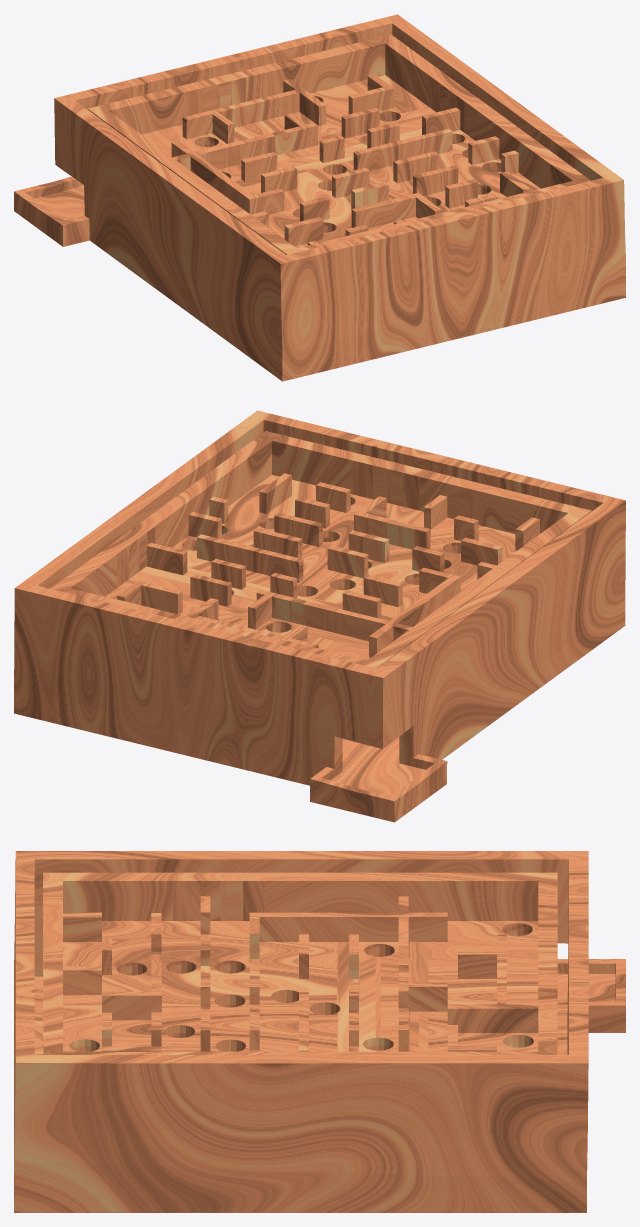
Rendered from Maze.fbx.
3 views of the same model, one above another, from view 1: azimuth 30°, elevation 25°; view 2: azimuth 150°, elevation 25°; view 3: azimuth 270°, elevation 25° (orthographic). The views are drawn at different scales.
Parts seen in each view (by area): view 1: OuterMaze, InnerMaze; view 2: OuterMaze, InnerMaze; view 3: OuterMaze, InnerMaze.
Boxes of the visible parts, x1,y1,x2,y2 form: OuterMaze: (14,14,625,381); InnerMaze: (87,34,590,254); OuterMaze: (14,410,625,822); InnerMaze: (50,431,591,668); OuterMaze: (14,851,625,1212); InnerMaze: (43,872,557,1054).
Size of the model in its own units: 278 by 84.45 by 315.
